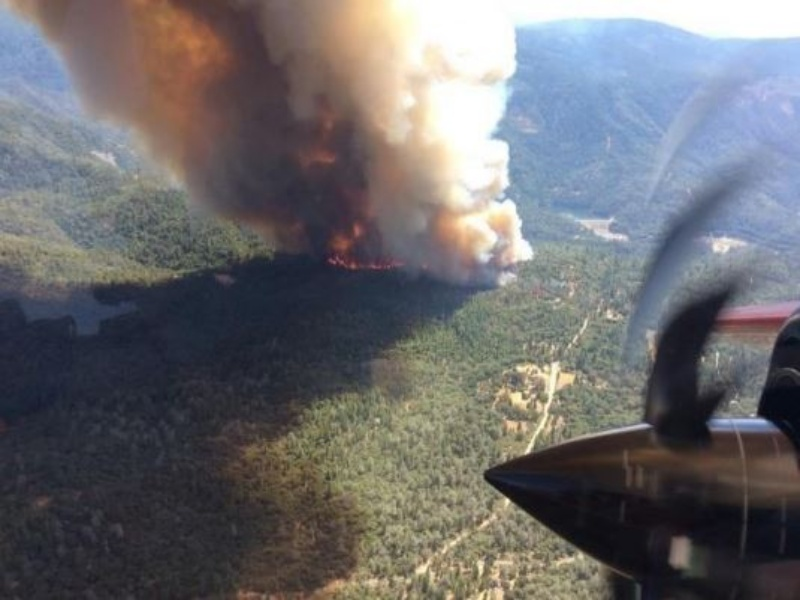smoke: (92, 1, 499, 268)
